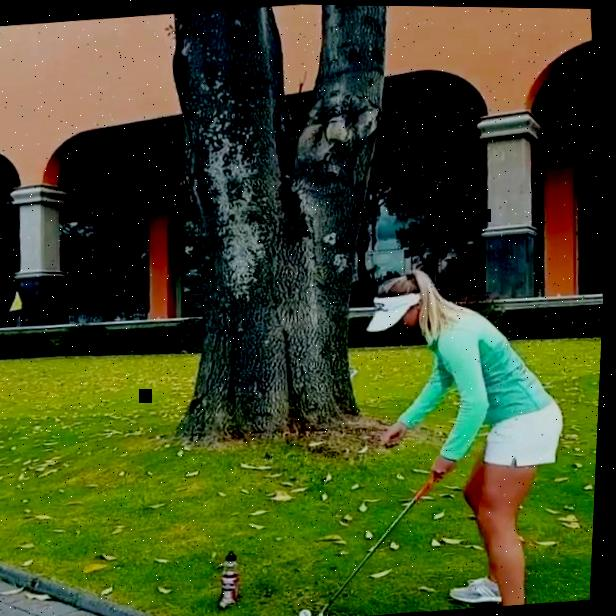ClubHead: (308, 611, 328, 616)
GolfBall: (303, 605, 318, 616)
